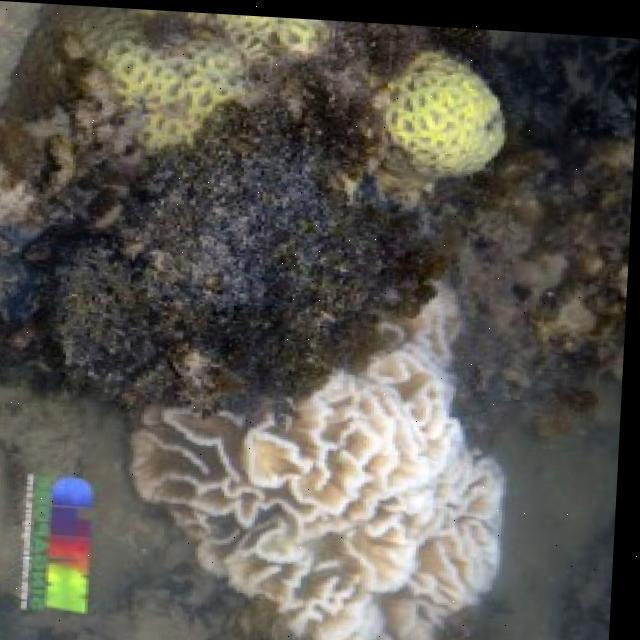Bleached Coral: (133, 373, 575, 640), (379, 291, 535, 445)
